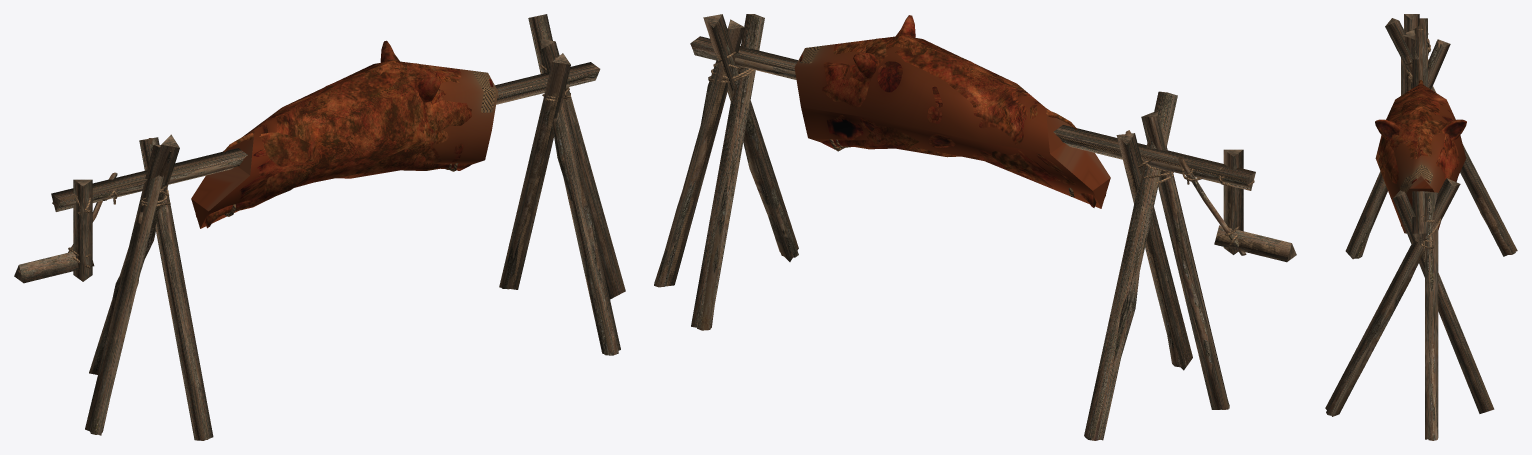
File: CAMP_spitRoast.FBX
3 views of the same model, side by side, from view 1: azimuth 30°, elevation 25°; view 2: azimuth 150°, elevation 25°; view 3: azimuth 270°, elevation 25° (orthographic). The views are drawn at different scales.
Visible parts, largest first — view 1: CAMP_spitRoast_COL, CAMP_roastedPig_COL, CAMP_roastedPig, CAMP_spitRoast_handle_COL, CAMP_spitRoast, CAMP_spitRoast_handle; view 2: CAMP_spitRoast_COL, CAMP_roastedPig_COL, CAMP_spitRoast, CAMP_spitRoast_handle_COL, CAMP_roastedPig, CAMP_spitRoast_handle; view 3: CAMP_spitRoast_COL, CAMP_roastedPig_COL, CAMP_spitRoast, CAMP_roastedPig, CAMP_spitRoast_handle_COL.
Boxes of the visible parts, <box> form: CAMP_spitRoast_COL: <box>85,14,625,440</box>; CAMP_roastedPig_COL: <box>191,60,498,228</box>; CAMP_roastedPig: <box>195,40,493,228</box>; CAMP_spitRoast_handle_COL: <box>14,62,600,283</box>; CAMP_spitRoast: <box>90,15,618,439</box>; CAMP_spitRoast_handle: <box>18,74,596,273</box>; CAMP_spitRoast_COL: <box>658,14,1228,440</box>; CAMP_roastedPig_COL: <box>794,35,1110,208</box>; CAMP_spitRoast: <box>654,16,1229,440</box>; CAMP_spitRoast_handle_COL: <box>690,36,1296,262</box>; CAMP_roastedPig: <box>799,15,1106,207</box>; CAMP_spitRoast_handle: <box>693,48,1293,255</box>; CAMP_spitRoast_COL: <box>1325,18,1517,439</box>; CAMP_roastedPig_COL: <box>1375,83,1466,233</box>; CAMP_spitRoast: <box>1326,33,1515,440</box>; CAMP_roastedPig: <box>1375,80,1466,183</box>; CAMP_spitRoast_handle_COL: <box>1404,14,1427,245</box>.
Bounding box in the file's own units: 318 × 147 × 106.
